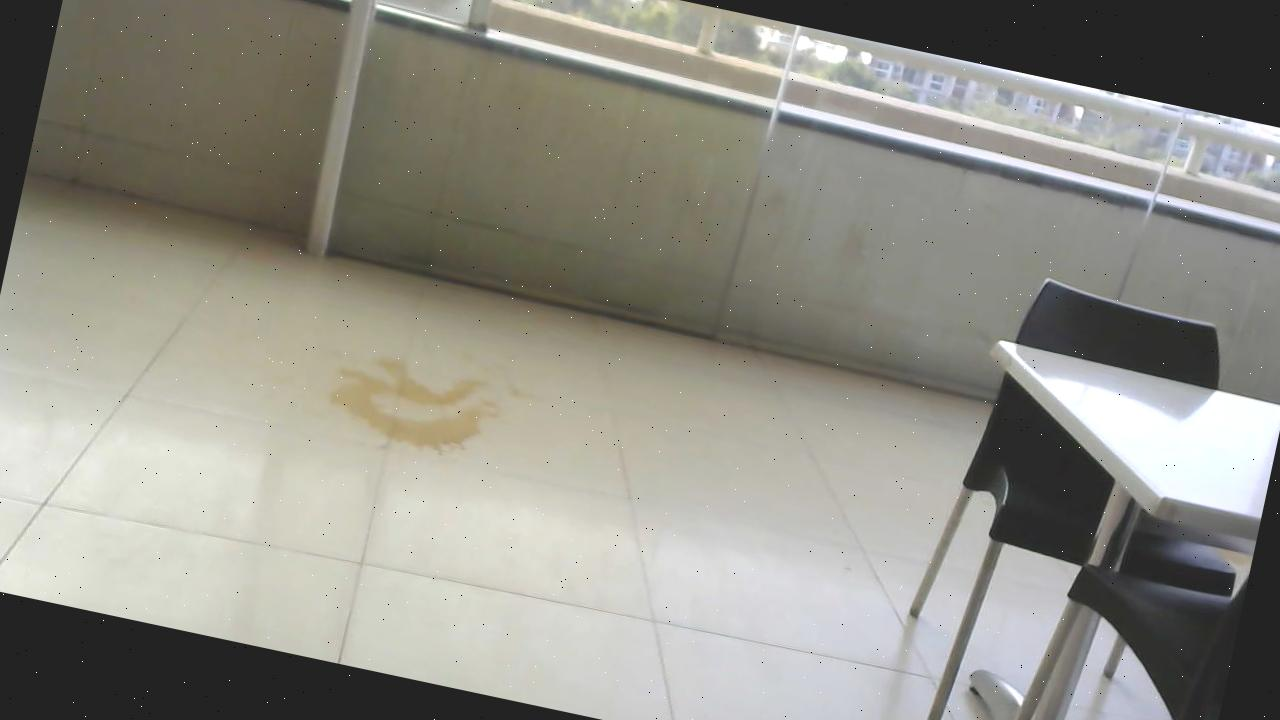dirty_floor: (302, 310, 540, 478)
